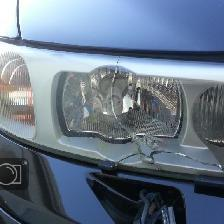head_lamp: (30, 46, 199, 184)
